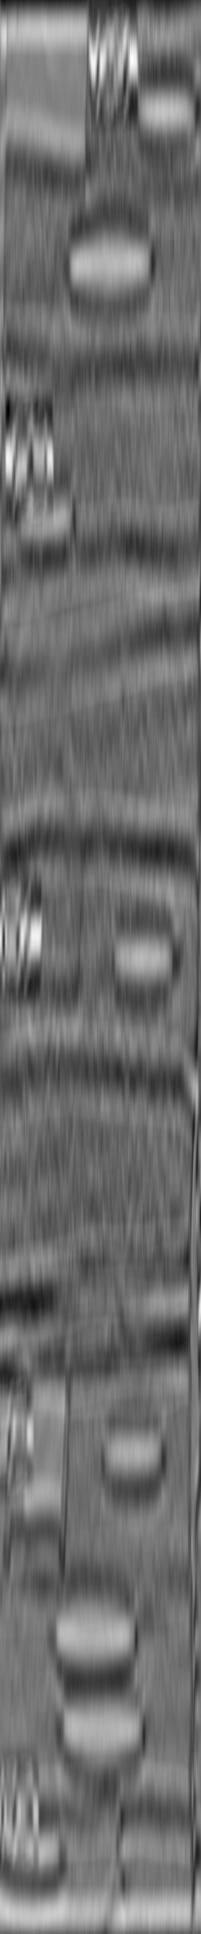hplug: (92, 1422, 169, 1496), (107, 923, 181, 998), (1, 1822, 73, 1895), (127, 72, 201, 142), (9, 486, 85, 554)
scal: (60, 206, 162, 318), (51, 1689, 155, 1782), (44, 1596, 141, 1686)
vplug: (1, 2, 97, 184), (1, 1360, 75, 1573), (17, 828, 95, 1010)
